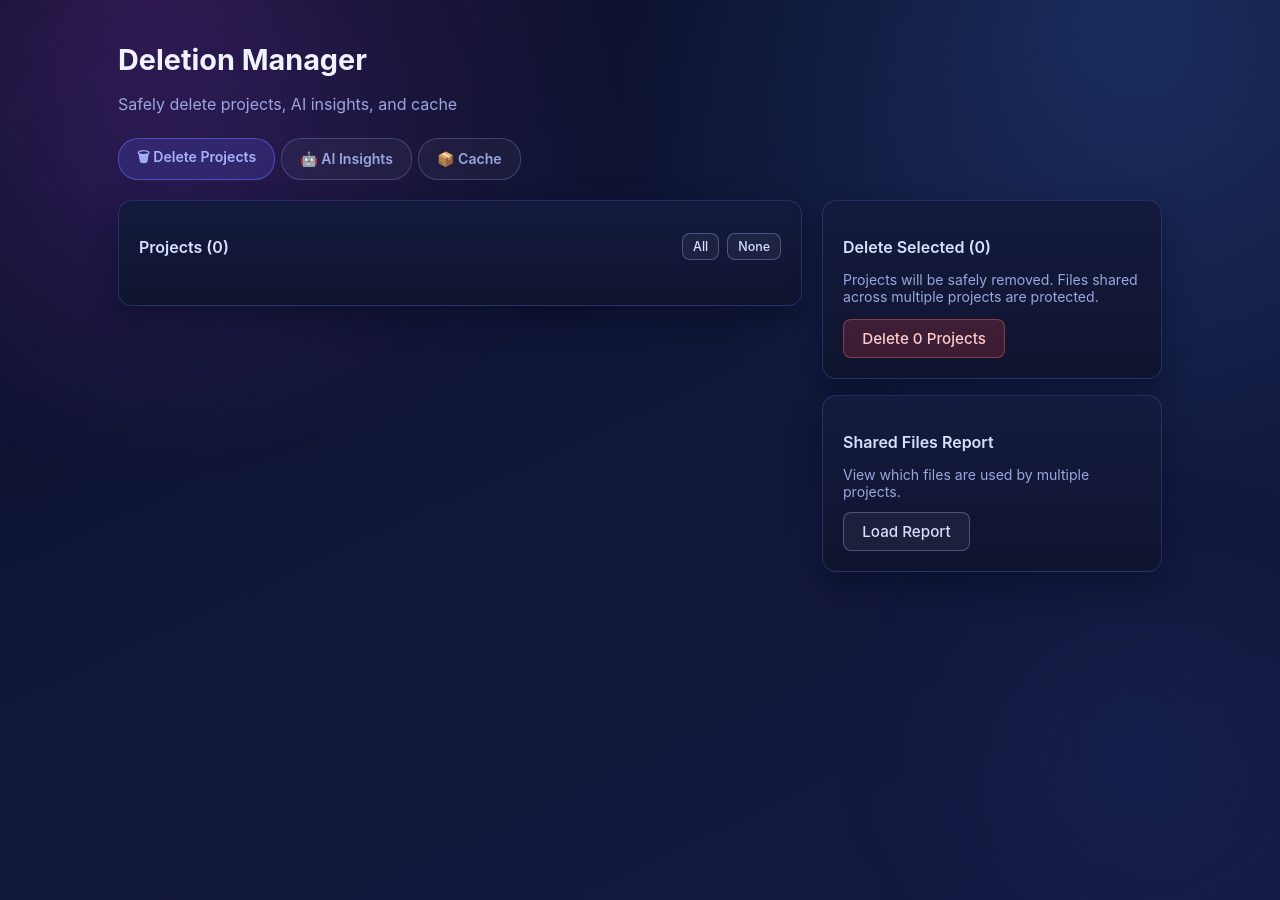
Test: Deletion - shared files › shows no shared files message after loading
Step 1. Click the button "Load Report" → (906, 532), box [843,512,970,551]
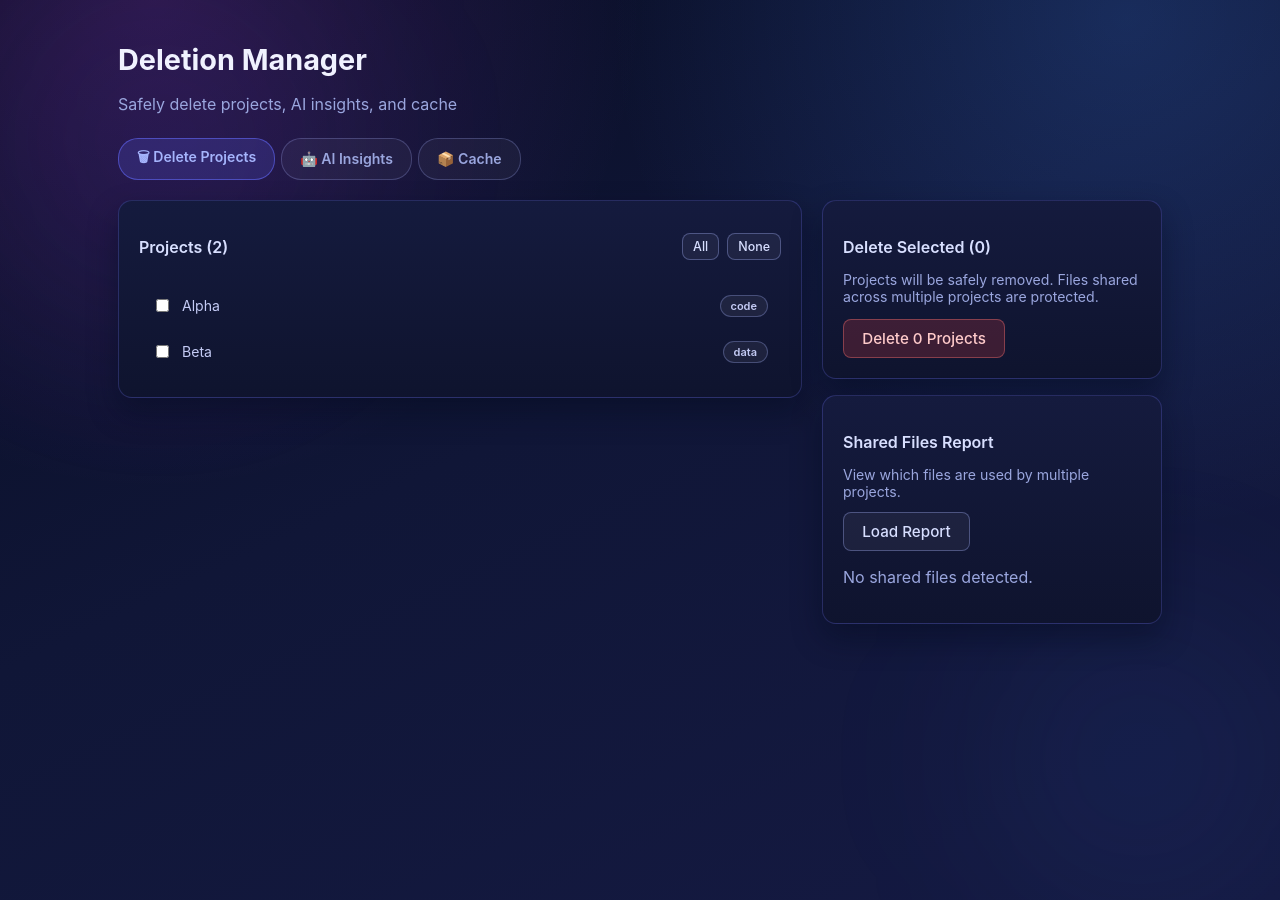
Result: the text "No shared files detected." is shown at [843,567,1033,587]
